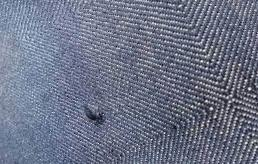knot: (84, 103, 106, 124)
